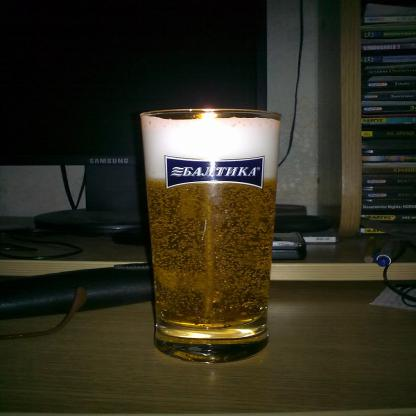drinking: (140, 109, 282, 364)
